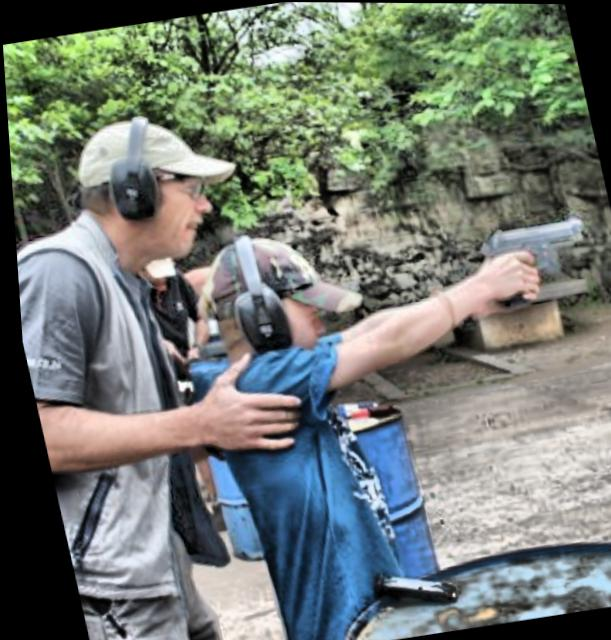pistol: (470, 214, 593, 308)
